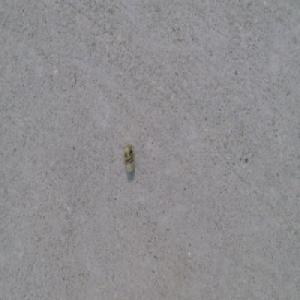BoltNutSet: (122, 144, 134, 171)
